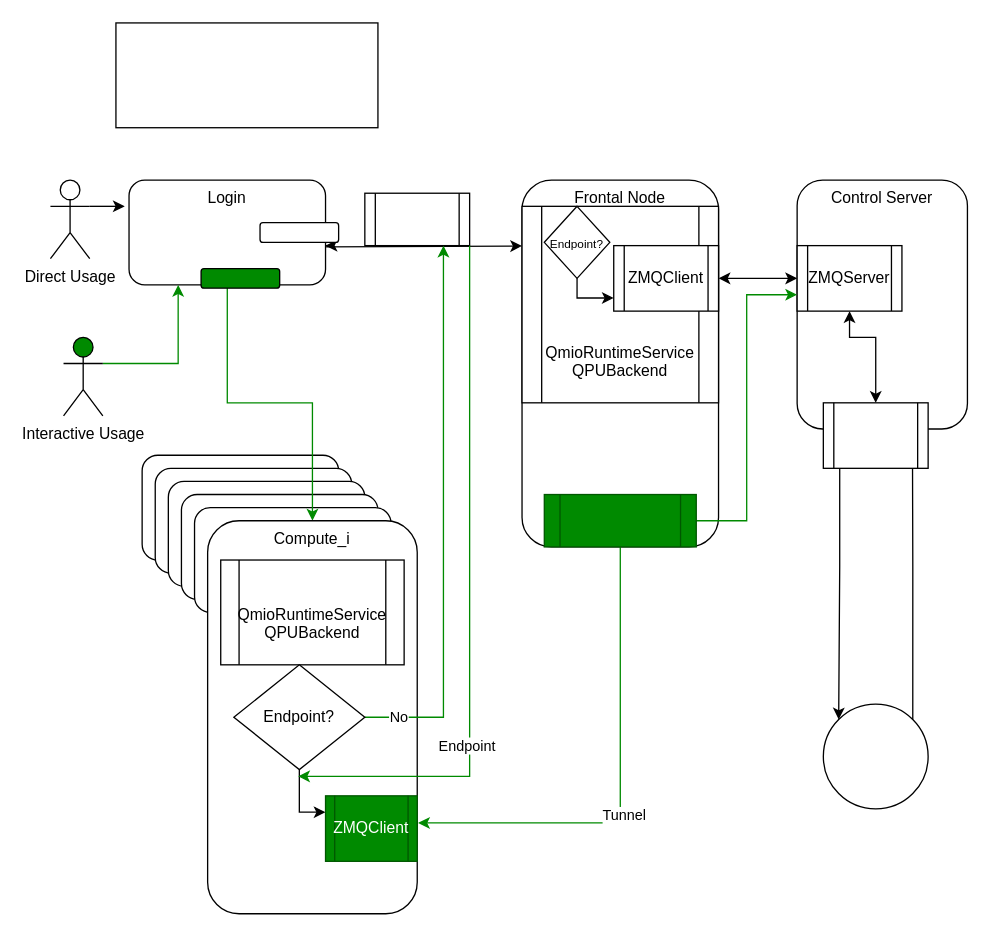
Image size: 990x937. Some labels were removed from this diagram. Here are the shapes that lost their labels. From the top down, the centre of each, then its label:
At point (246, 75): "QMIO Runtime (Under the hood)".
At point (299, 231): "sbatch".
At point (417, 219): "Slurm".
At point (240, 277): "compute".
At point (875, 435): "QAT".
At point (619, 520): "Redirection".
At point (875, 756): "QPU".
